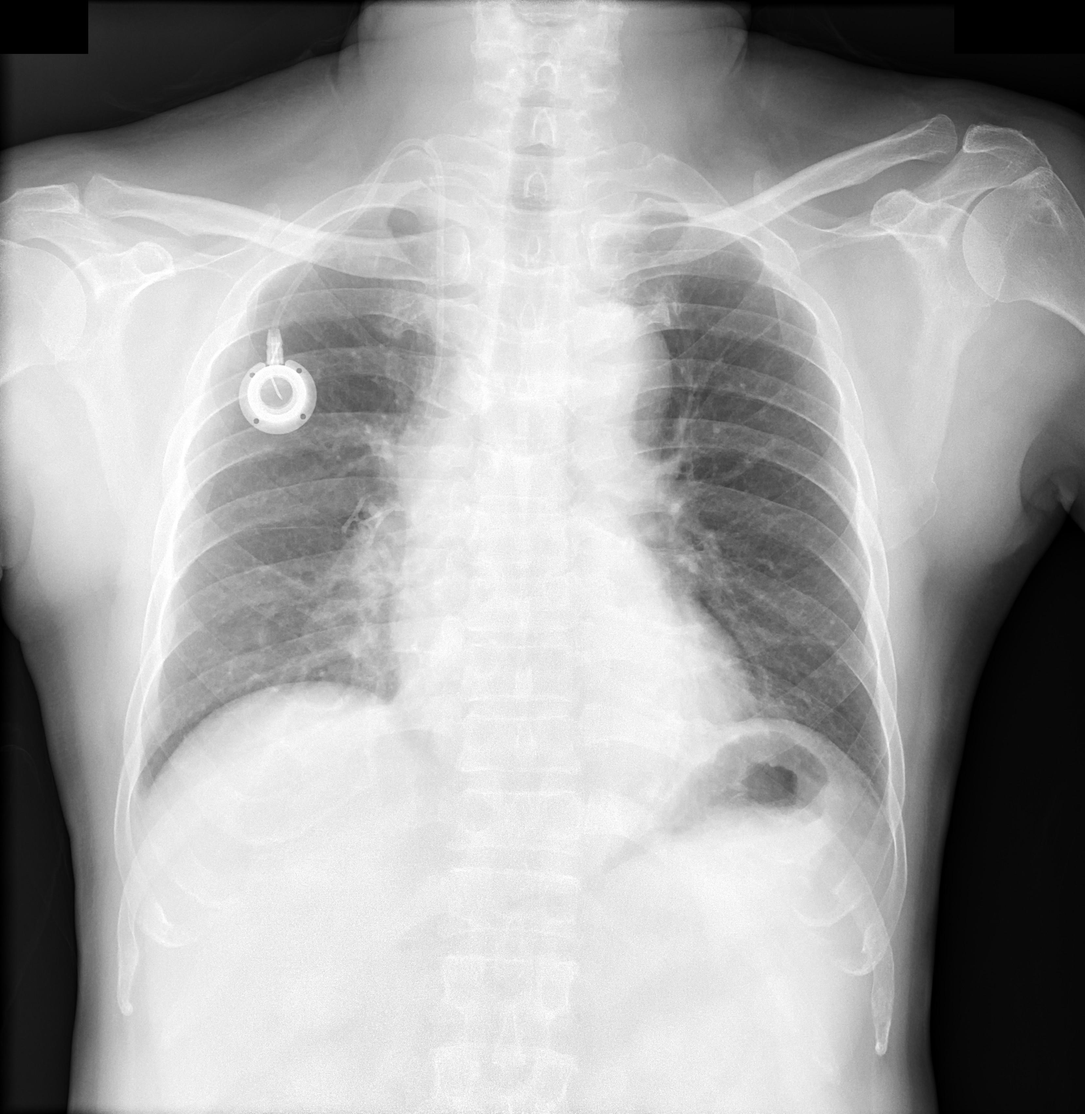Aortic enlargement: (537, 303, 673, 463)
Cardiomegaly: (383, 593, 773, 762)
Pleural thickening: (128, 771, 147, 831)
